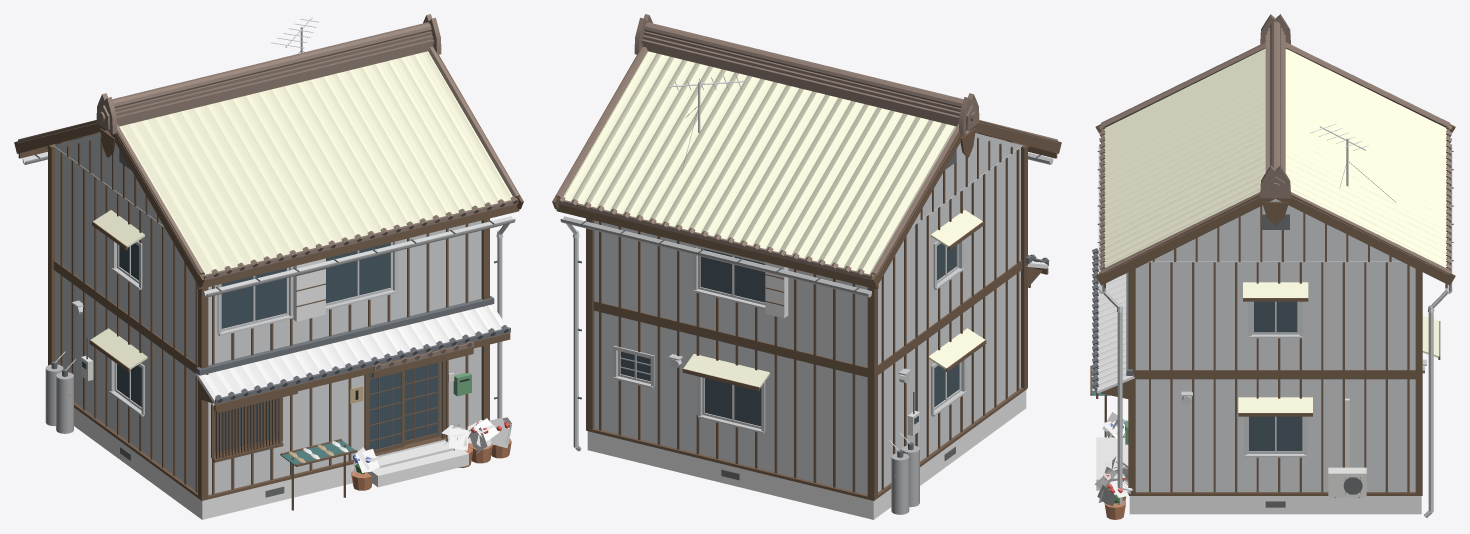
File: house_old.glb
3 renders of one model, left to right at view 1: azimuth 30°, elevation 25°; view 2: azimuth 150°, elevation 25°; view 3: azimuth 270°, elevation 25°, orthographic. The views are drawn at different scales.
Visible parts, largest first — view 1: house_old_body; view 2: house_old_body; view 3: house_old_body.
Part boxes in pixels (box(x1,y1,x2,y2)): house_old_body: box(14, 14, 523, 519); house_old_body: box(552, 14, 1061, 519); house_old_body: box(1090, 14, 1455, 519).
Size of what is drawn, in the model's own units: 7.75 by 8.24 by 7.63.
